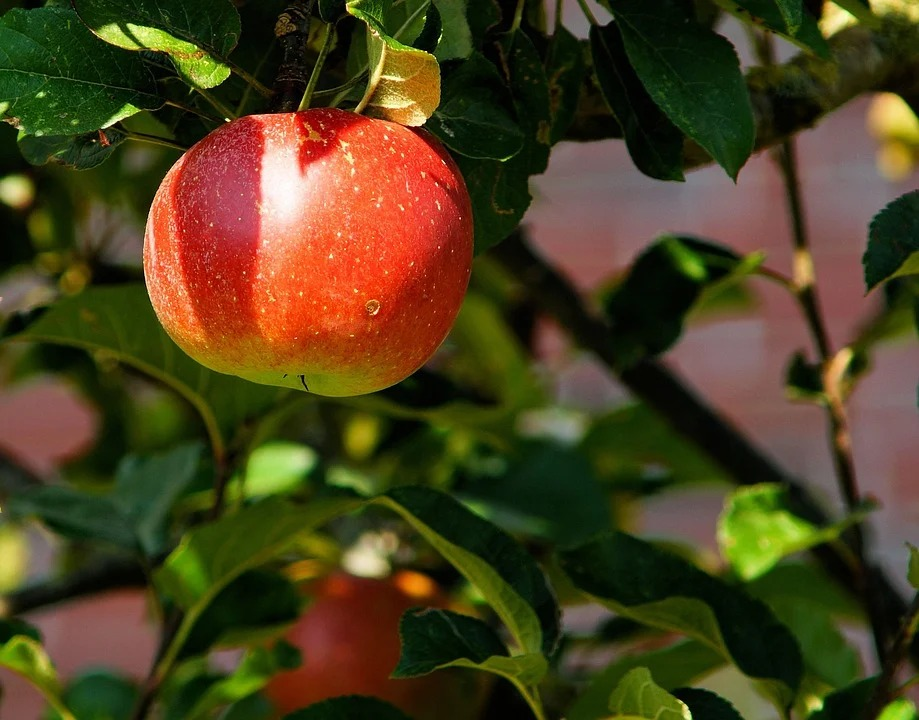apple: (141, 107, 477, 400)
